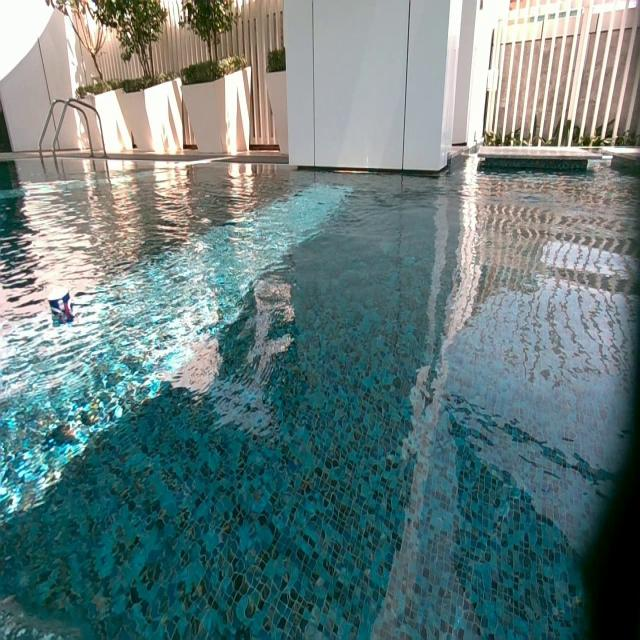Cans: (51, 294, 74, 320)
